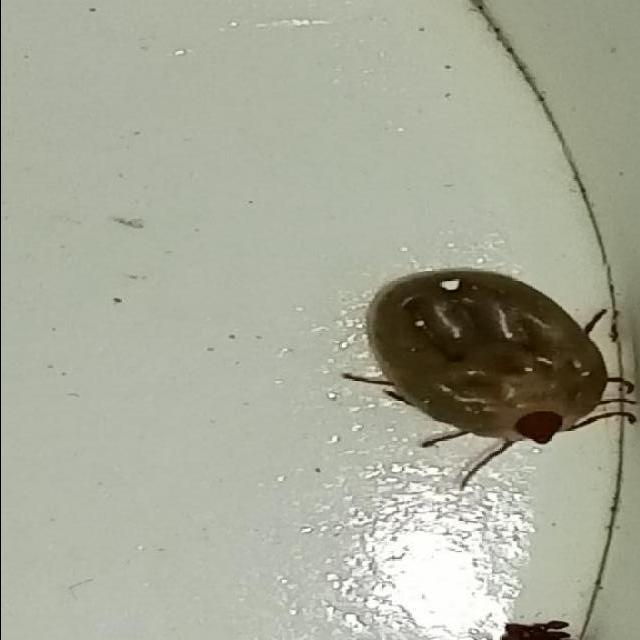Rhipicephalus Sanguineus-F-Fed: (342, 267, 638, 491)
